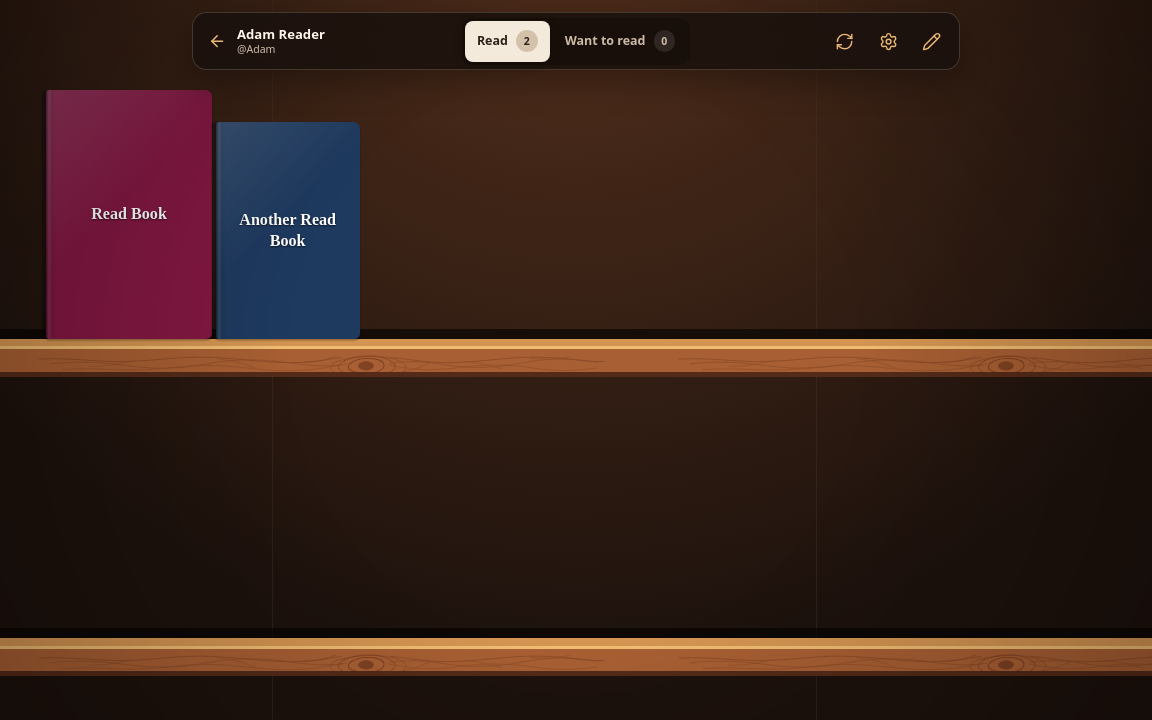
ShelfView › shows a clear empty state for an empty Want to Read shelf
Click the tab with aria-label "Want to Read (0)": (620, 41) x1=553 y1=21 x2=687 y2=62
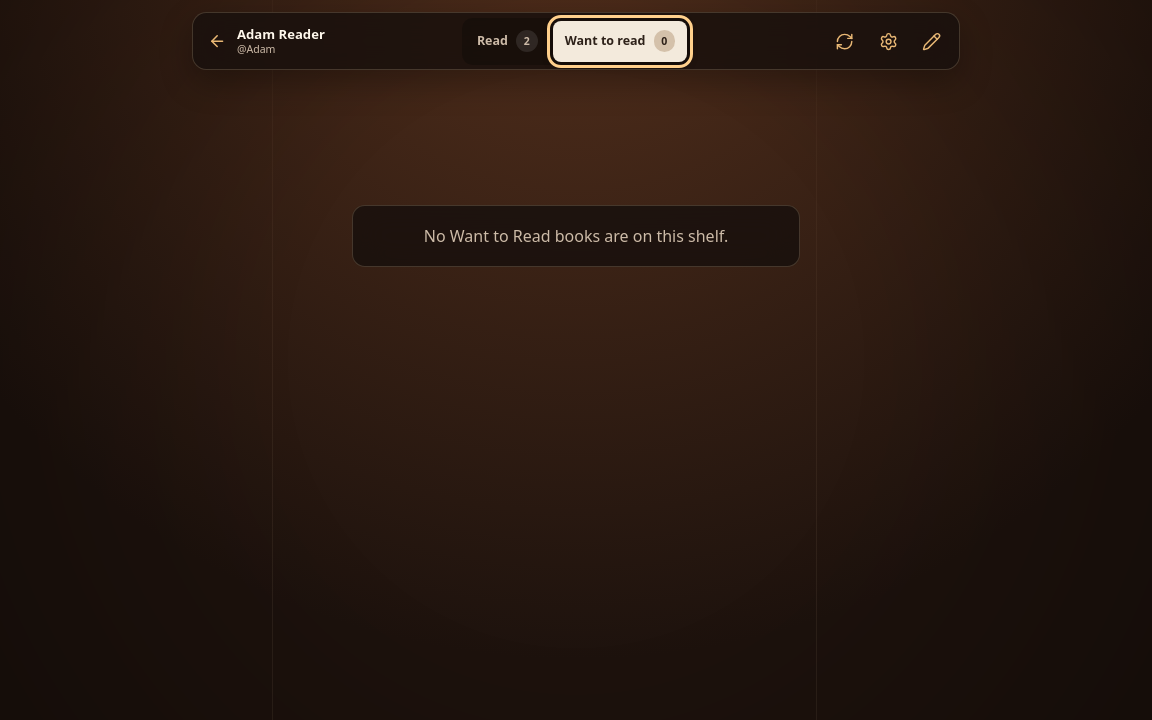
Expected: the text "No Want to Read books are on this shelf." is shown, x1=352 y1=205 x2=800 y2=267
Expected: the list "Want to Read bookshelf" is gone
